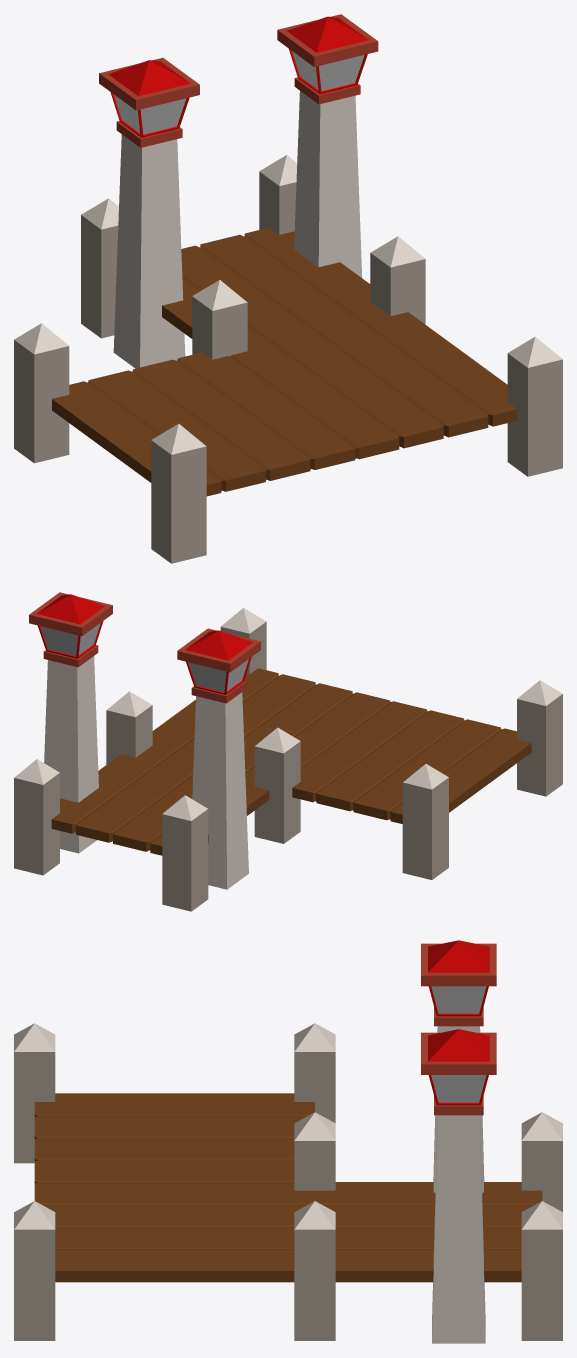
File: SM_Pier_01_A.gltf
3 views of the same model, one above another, from view 1: azimuth 30°, elevation 25°; view 2: azimuth 150°, elevation 25°; view 3: azimuth 270°, elevation 25° (orthographic). The views are drawn at different scales.
Parts seen in each view (by area): view 1: SM_Pier_01_A; view 2: SM_Pier_01_A; view 3: SM_Pier_01_A.
Boxes of the visible parts, left/top/right/bottom form: SM_Pier_01_A: left=14, top=14, right=562, bottom=563; SM_Pier_01_A: left=14, top=592, right=562, bottom=911; SM_Pier_01_A: left=14, top=940, right=562, bottom=1343.
Bounding box in the file's own units: 3.42 × 2.39 × 3.92.
